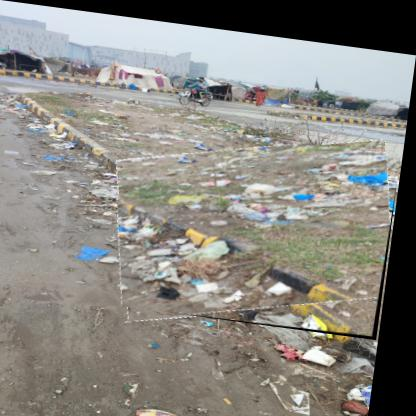Garbage: (113, 116, 405, 331)
